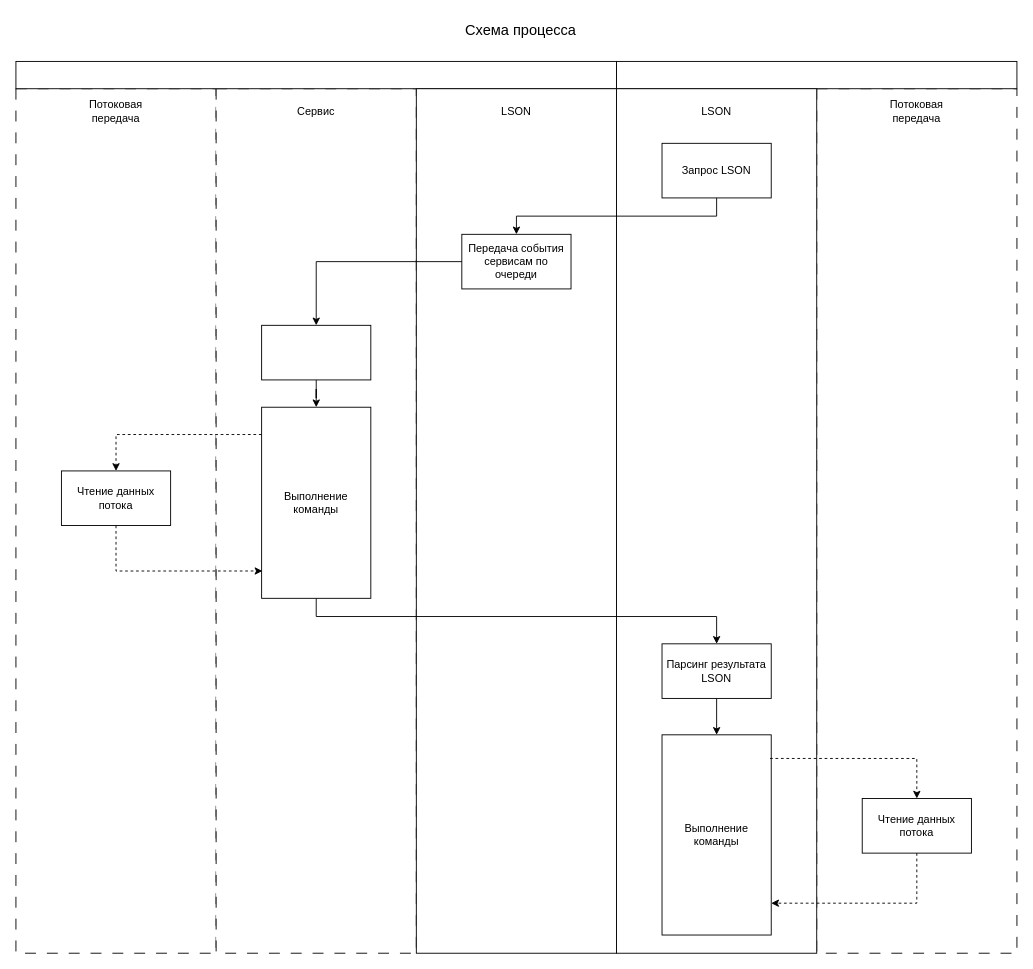
Some shapes in this 1033 by 969 pixel diagram are drawn without their labels. The shapes that lost their labels are listed below. From the top down, each one's box as (x1, y1, x2, y2) in pixels, then its label:
(15, 61, 617, 89): Сервер
(616, 61, 1017, 89): Клиент
(261, 324, 371, 380): Парсинг запроса LSON
